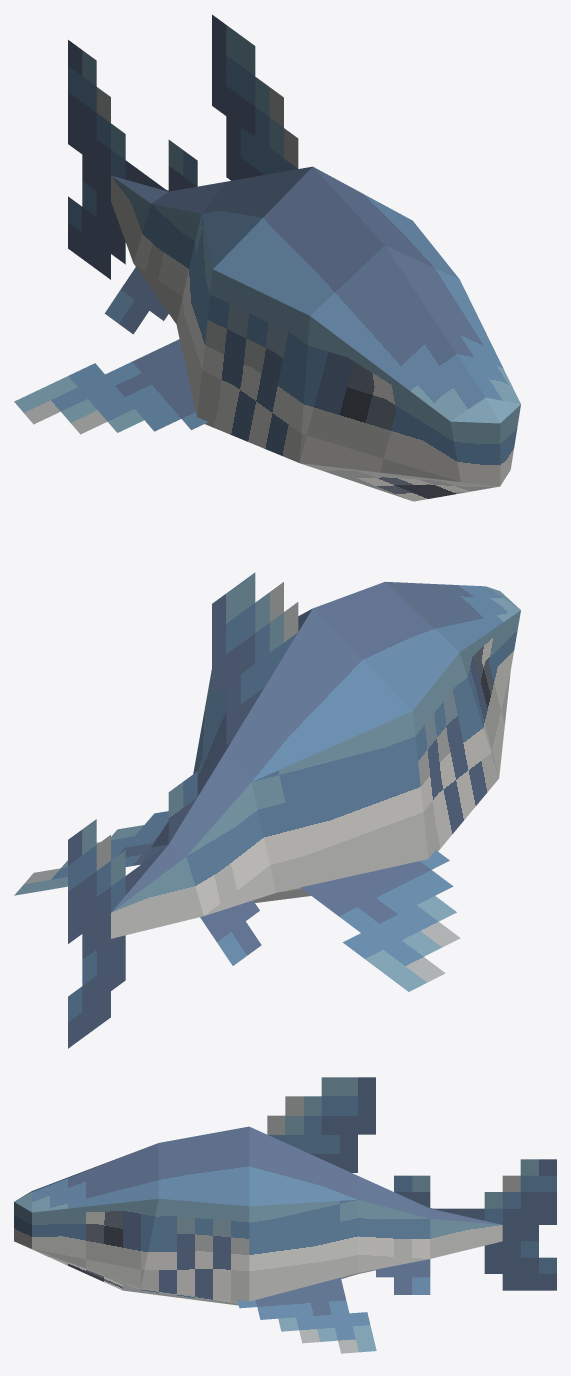
The model's file is shark.fbx.
The picture shows the model from 3 angles, top to bottom: view 1: azimuth 30°, elevation 25°; view 2: azimuth 150°, elevation 25°; view 3: azimuth 270°, elevation 25°; orthographic projection. The views are drawn at different scales.
Visible parts, largest first — view 1: Plane; view 2: Plane; view 3: Plane.
Boxes of the visible parts, x1,y1,x2,y2 form: Plane: [14, 14, 520, 501]; Plane: [14, 572, 520, 1048]; Plane: [14, 1077, 556, 1353].
Size of the model in its own units: 58.11 by 43.75 by 93.75.
Materials: 1 (1 with a texture image).
